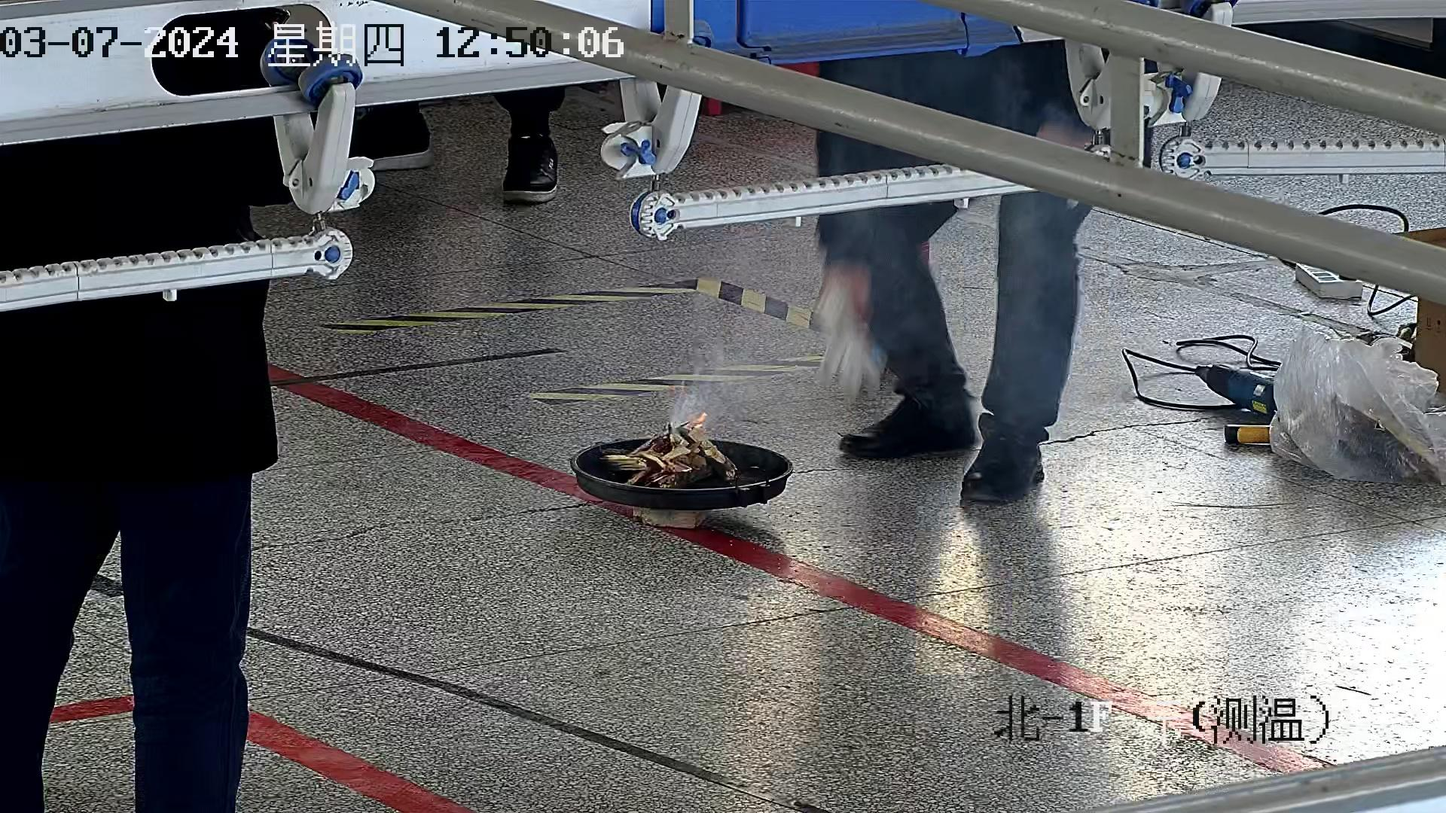smoke: (670, 348, 761, 428)
